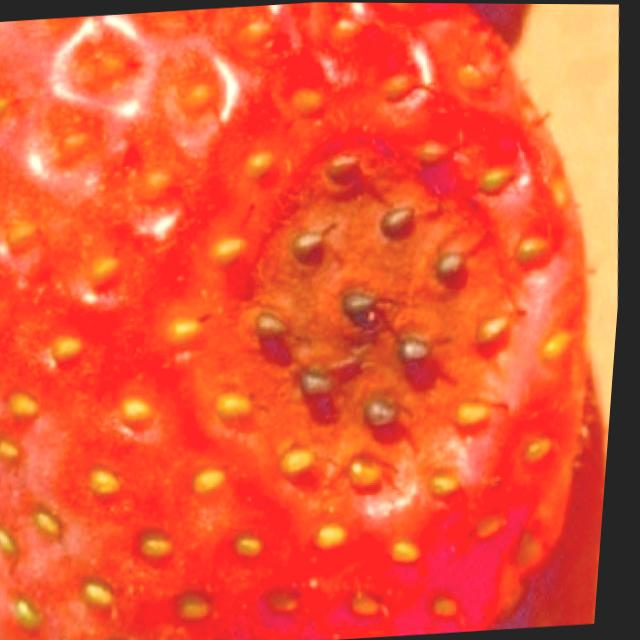Anthracnose Fruit Rot: (201, 122, 544, 542)
